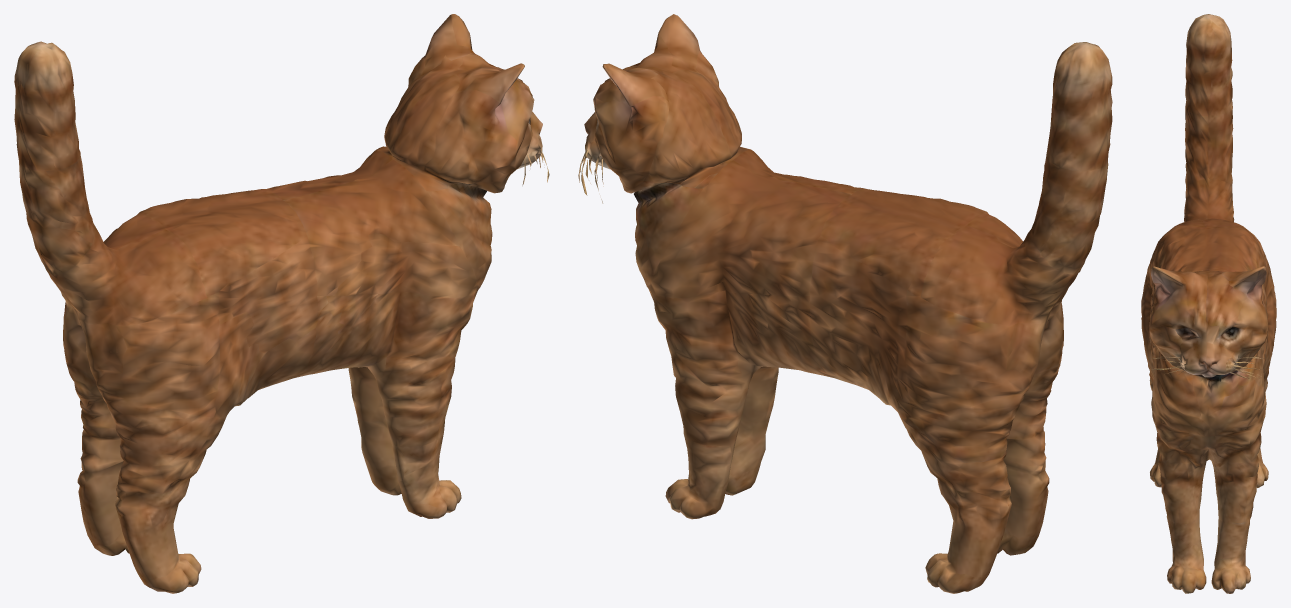
The model's file is HAMLETCAT-lo.glb.
The picture shows the model from 3 angles, left to right: view 1: azimuth 30°, elevation 25°; view 2: azimuth 150°, elevation 25°; view 3: azimuth 270°, elevation 25°; orthographic projection. The views are drawn at different scales.
Parts seen in each view (by area): view 1: tripo_node_349bc0e9-caa7-4216-9381-fd695056519e; view 2: tripo_node_349bc0e9-caa7-4216-9381-fd695056519e; view 3: tripo_node_349bc0e9-caa7-4216-9381-fd695056519e.
Boxes of the visible parts, <box> form: tripo_node_349bc0e9-caa7-4216-9381-fd695056519e: <box>14,14,549,593</box>; tripo_node_349bc0e9-caa7-4216-9381-fd695056519e: <box>578,14,1112,593</box>; tripo_node_349bc0e9-caa7-4216-9381-fd695056519e: <box>1141,14,1276,593</box>.
Bounding box in the file's own units: 0.9984 × 0.9991 × 0.2871.
1 material, 1 textured.
